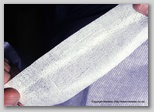NA: (62, 13, 125, 84)
